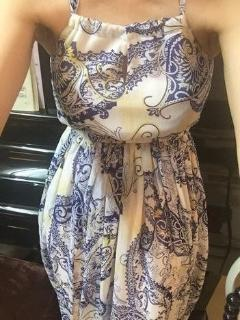sling: (38, 0, 214, 319)
